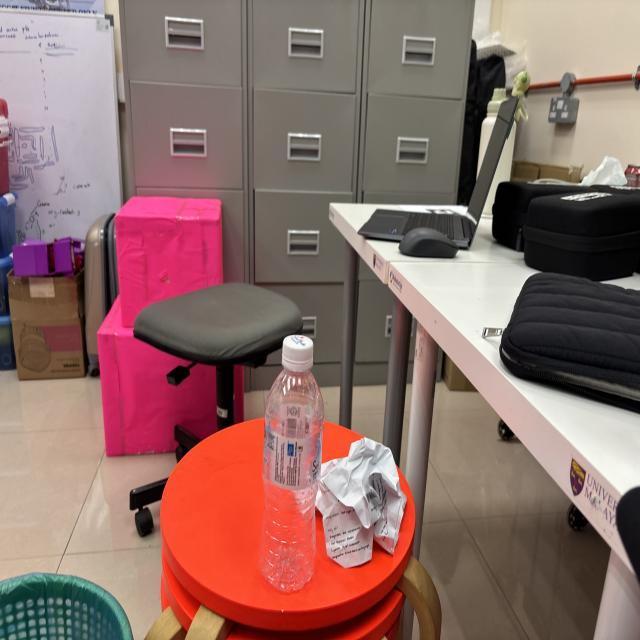crumpled_paper: (311, 423, 412, 579)
plastic_bottle: (258, 326, 325, 602)
